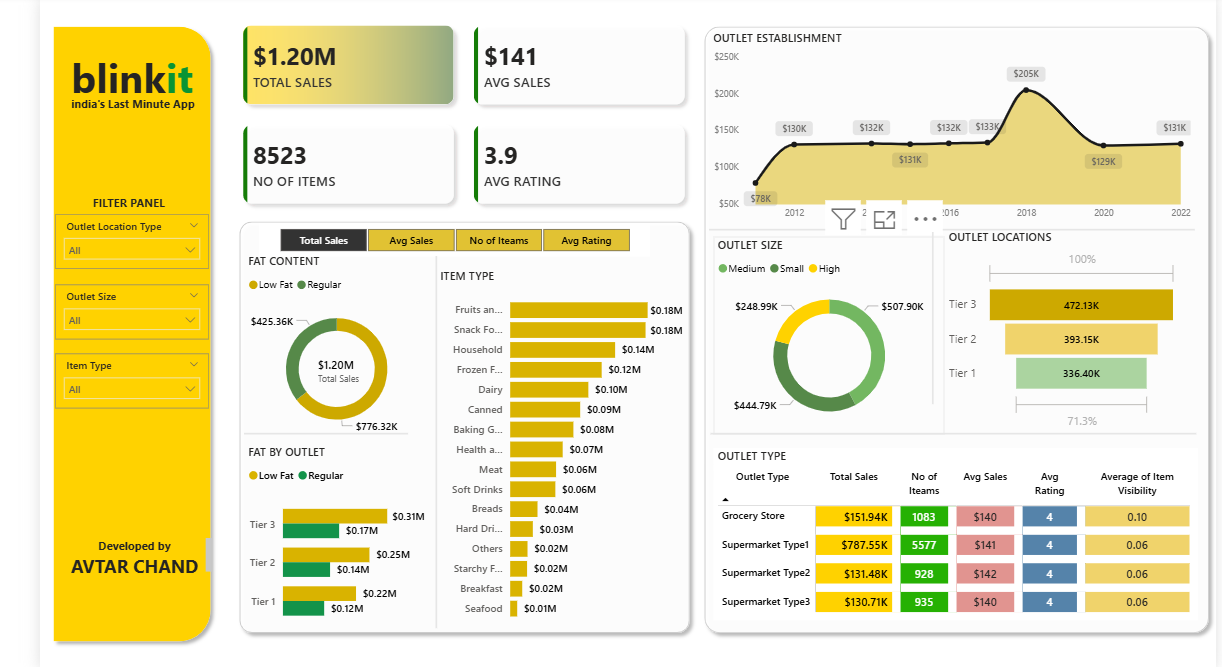

The dashboard page shown, as its layout file describes it:
{"tool":"powerbi","page":{"name":"Page 1","canvas":[1400,800],"ordinal":0},"visuals":[{"type":"shape","box":[6.7,25,205,750],"z":0},{"type":"textbox","box":[32,56,170,76],"z":1000},{"type":"textbox","box":[32,110,168,29],"z":2000},{"type":"cardVisual","fields":{"Data":["BlinkIT Grocery Data.Total Sales","BlinkIT Grocery Data.Avg Sales","BlinkIT Grocery Data.No of Iteams","BlinkIT Grocery Data.Avg Rating"]},"box":[211.7,3.3,585,270],"z":3000},{"type":"shape","box":[227.7,256.9,553.8,507.7],"z":4000},{"type":"donutChart","title":"FAT CONTENT","fields":{"Y":["BlinkIT Grocery Data.Total Sales"],"Category":["BlinkIT Grocery Data.Item Fat Content"]},"box":[243.1,303.1,220,229.2],"z":5000},{"type":"slicer","fields":{"Values":["Metrics.Metrics"]},"box":[260,268.3,465,40],"z":6000},{"type":"cardVisual","fields":{"Data":["BlinkIT Grocery Data.Total Sales"]},"box":[301.5,406.2,120,76.9],"z":7000},{"type":"clusteredBarChart","title":"FAT BY OUTLET","fields":{"Y":["BlinkIT Grocery Data.Total Sales"],"Category":["BlinkIT Grocery Data.Outlet Location Type"],"Series":["BlinkIT Grocery Data.Item Fat Content"]},"box":[243.3,530,220,230],"z":8000},{"type":"shape","box":[243.1,507.7,195.4,23.1],"z":9000},{"type":"shape","box":[452.3,307.7,40,443.1],"z":10000},{"type":"barChart","title":"ITEM TYPE","fields":{"Y":["BlinkIT Grocery Data.Total Sales"],"Category":["BlinkIT Grocery Data.Item Type"]},"box":[472.3,321.5,298.5,429.2],"z":11000},{"type":"shape","box":[781.7,25,618.3,740],"z":12000},{"type":"lineChart","title":"OUTLET ESTABLISHMENT","fields":{"Y":["BlinkIT Grocery Data.Total Sales"],"Category":["BlinkIT Grocery Data.Outlet Establishment Year"]},"box":[796.7,38.3,578.3,235],"z":13000},{"type":"shape","box":[796.7,261.7,578.3,26.7],"z":14000},{"type":"donutChart","title":"OUTLET SIZE","fields":{"Y":["BlinkIT Grocery Data.Total Sales"],"Category":["BlinkIT Grocery Data.Outlet Size"]},"box":[801.7,283.3,275,236.7],"z":15000},{"type":"shape","box":[1043.3,278.3,40,205],"z":16000},{"type":"funnel","title":"OUTLET LOCATIONS","fields":{"Y":["Sum(BlinkIT Grocery Data.Sales)"],"Category":["BlinkIT Grocery Data.Outlet Location Type"]},"box":[1076.7,275,281.7,243.3],"z":17000},{"type":"shape","box":[798.3,505,578.3,26.7],"z":18000},{"type":"pivotTable","title":"OUTLET TYPE","fields":{"Rows":["BlinkIT Grocery Data.Outlet Type"],"Values":["BlinkIT Grocery Data.Total Sales","BlinkIT Grocery Data.No of Iteams","BlinkIT Grocery Data.Avg Sales","BlinkIT Grocery Data.Avg Rating","Avg(BlinkIT Grocery Data.Item Visibility)"]},"box":[801.7,535,576.7,205],"z":19000},{"type":"slicer","fields":{"Values":["BlinkIT Grocery Data.Outlet Location Type"]},"box":[18.3,256.7,183.3,65],"z":20000},{"type":"slicer","fields":{"Values":["BlinkIT Grocery Data.Outlet Size"]},"box":[18.3,341.7,183.3,65],"z":21000},{"type":"slicer","fields":{"Values":["BlinkIT Grocery Data.Item Type"]},"box":[18.3,423.3,183.3,65],"z":22000},{"type":"textbox","box":[13.3,228.3,186.7,40],"z":23000},{"type":"textbox","box":[23.3,638.3,186.7,53.3],"z":24000}]}

Visuals, with their boxes on the page's 1400x800 design canvas (x1, y1, x2, y2). These are canvas units, not pixel positions in the 1222x667 screenshot, which may show the page scaled, cropped or inside an application window:
shape: [x1=7, y1=25, x2=212, y2=775]
textbox: [x1=32, y1=56, x2=202, y2=132]
textbox: [x1=32, y1=110, x2=200, y2=139]
cardVisual - BlinkIT Grocery Data.Total Sales x BlinkIT Grocery Data.Avg Sales: [x1=212, y1=3, x2=797, y2=273]
shape: [x1=228, y1=257, x2=782, y2=765]
"FAT CONTENT" donutChart: [x1=243, y1=303, x2=463, y2=532]
slicer - Metrics.Metrics: [x1=260, y1=268, x2=725, y2=308]
cardVisual - BlinkIT Grocery Data.Total Sales: [x1=302, y1=406, x2=422, y2=483]
"FAT BY OUTLET" clusteredBarChart: [x1=243, y1=530, x2=463, y2=760]
shape: [x1=243, y1=508, x2=438, y2=531]
shape: [x1=452, y1=308, x2=492, y2=751]
"ITEM TYPE" barChart: [x1=472, y1=322, x2=771, y2=751]
shape: [x1=782, y1=25, x2=1400, y2=765]
"OUTLET ESTABLISHMENT" lineChart: [x1=797, y1=38, x2=1375, y2=273]
shape: [x1=797, y1=262, x2=1375, y2=288]
"OUTLET SIZE" donutChart: [x1=802, y1=283, x2=1077, y2=520]
shape: [x1=1043, y1=278, x2=1083, y2=483]
"OUTLET LOCATIONS" funnel: [x1=1077, y1=275, x2=1358, y2=518]
shape: [x1=798, y1=505, x2=1377, y2=532]
"OUTLET TYPE" pivotTable: [x1=802, y1=535, x2=1378, y2=740]
slicer - BlinkIT Grocery Data.Outlet Location Type: [x1=18, y1=257, x2=202, y2=322]
slicer - BlinkIT Grocery Data.Outlet Size: [x1=18, y1=342, x2=202, y2=407]
slicer - BlinkIT Grocery Data.Item Type: [x1=18, y1=423, x2=202, y2=488]
textbox: [x1=13, y1=228, x2=200, y2=268]
textbox: [x1=23, y1=638, x2=210, y2=692]
